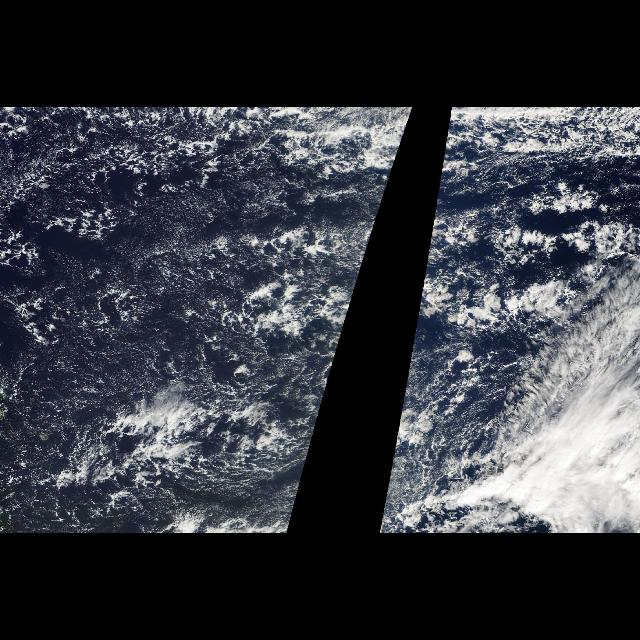Fish: (414, 108, 640, 328), (274, 108, 412, 328)
Gravel: (5, 111, 357, 362)
Sugar: (3, 112, 383, 410)
